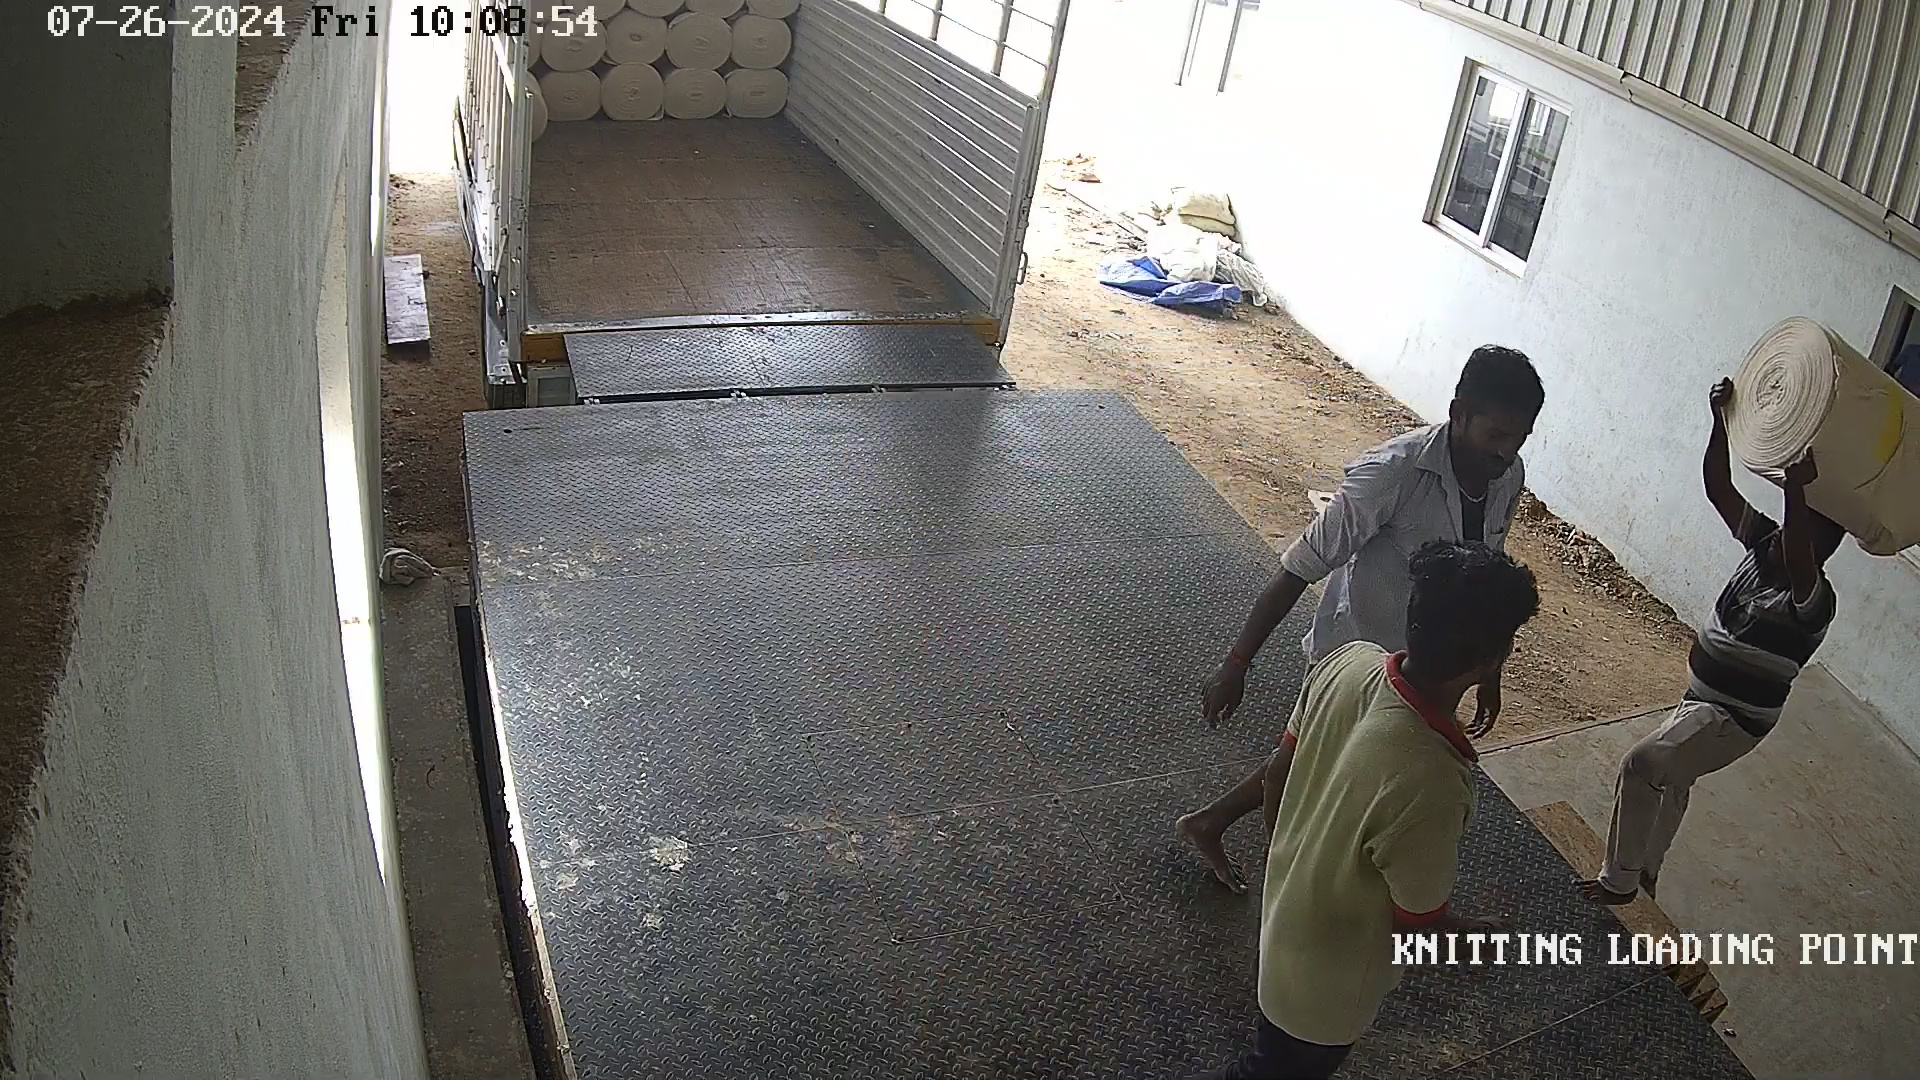bag: (1706, 299, 1920, 554)
